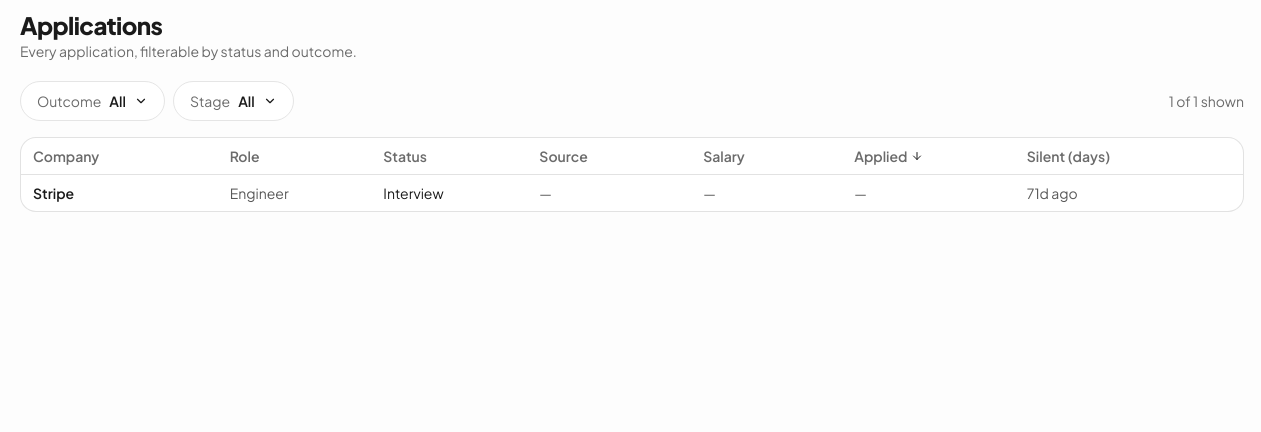
Test case: offers a way out when filters match nothing
The image size is (1261, 432).
Click the button with aria-label "Outcome: All". click: {"x": 92, "y": 101}
box: [20,81,165,121]
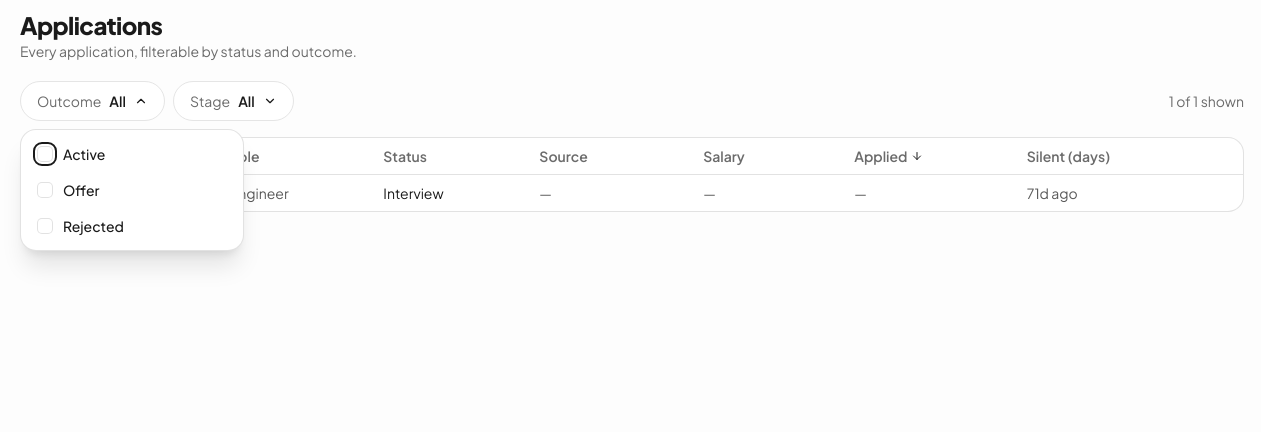
Click the checkbox labelled "Offer". click: {"x": 68, "y": 190}
box: [37,181,99,199]
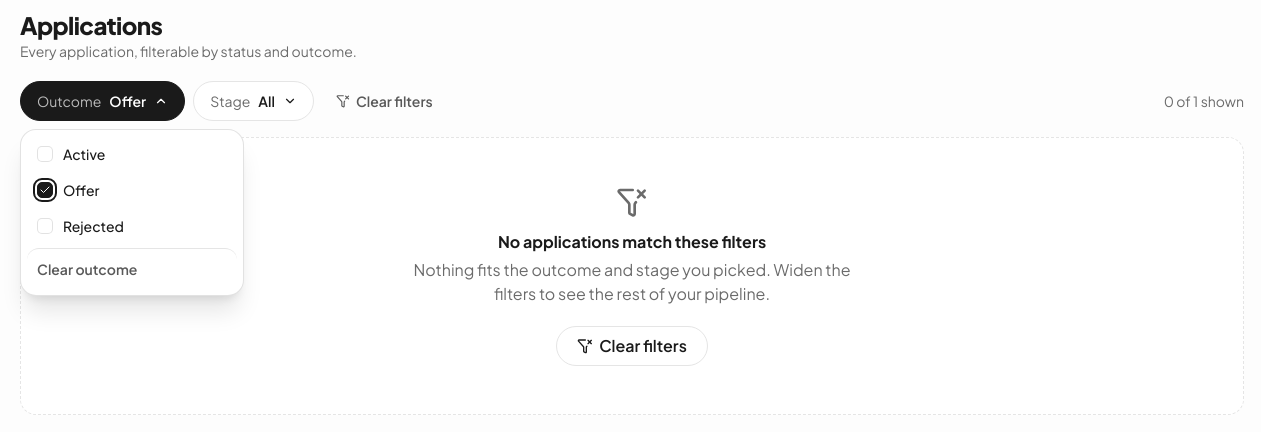
Press Escape
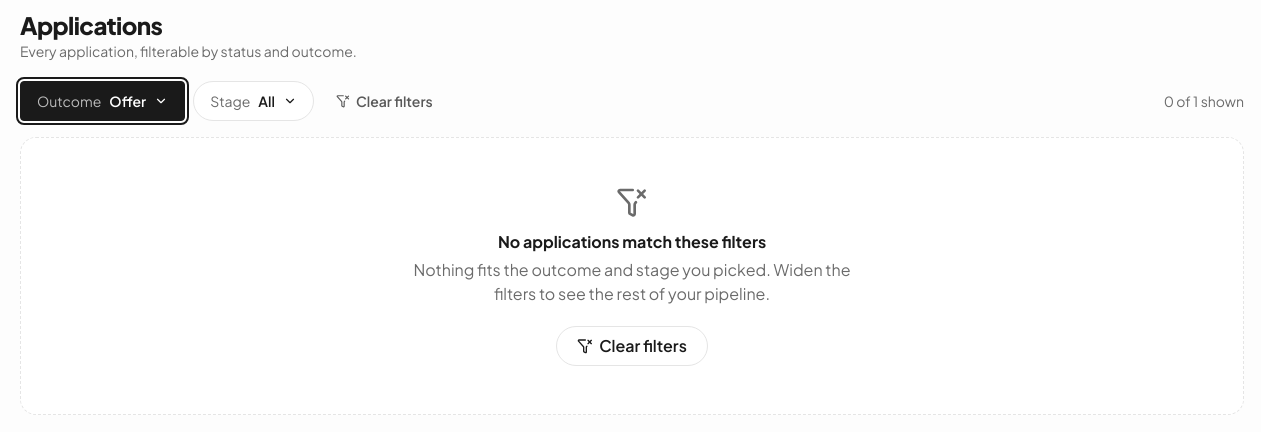
expect the text "No applications match these filters" is shown: met, box [498,231,766,252]
Click the button "Clear filters" below "No applications match these filters". click: {"x": 632, "y": 346}
box: [556,326,708,366]
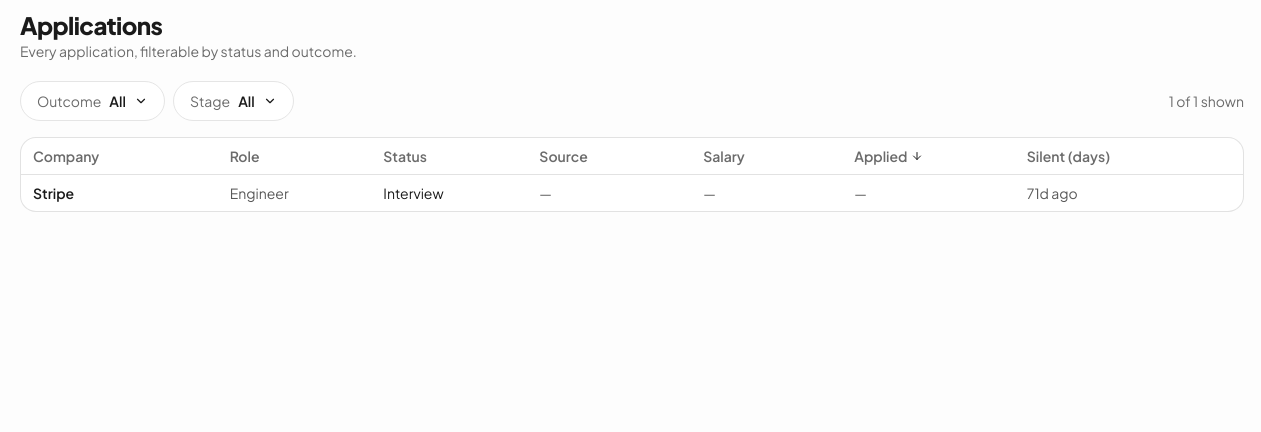
expect the button "Stripe" is shown: met, box [33,183,74,203]
